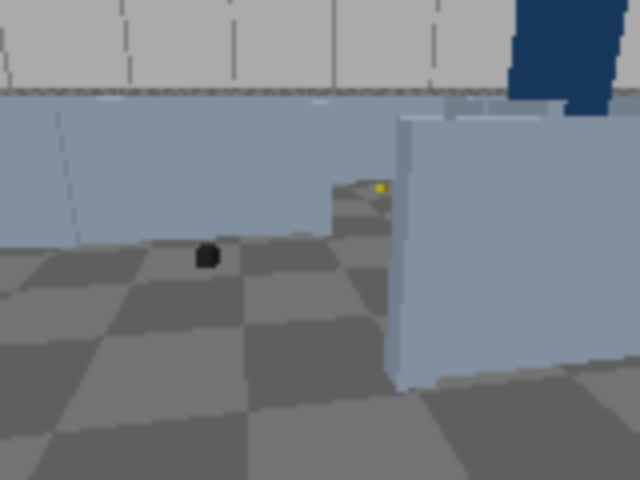puck: (195, 245, 219, 268)
